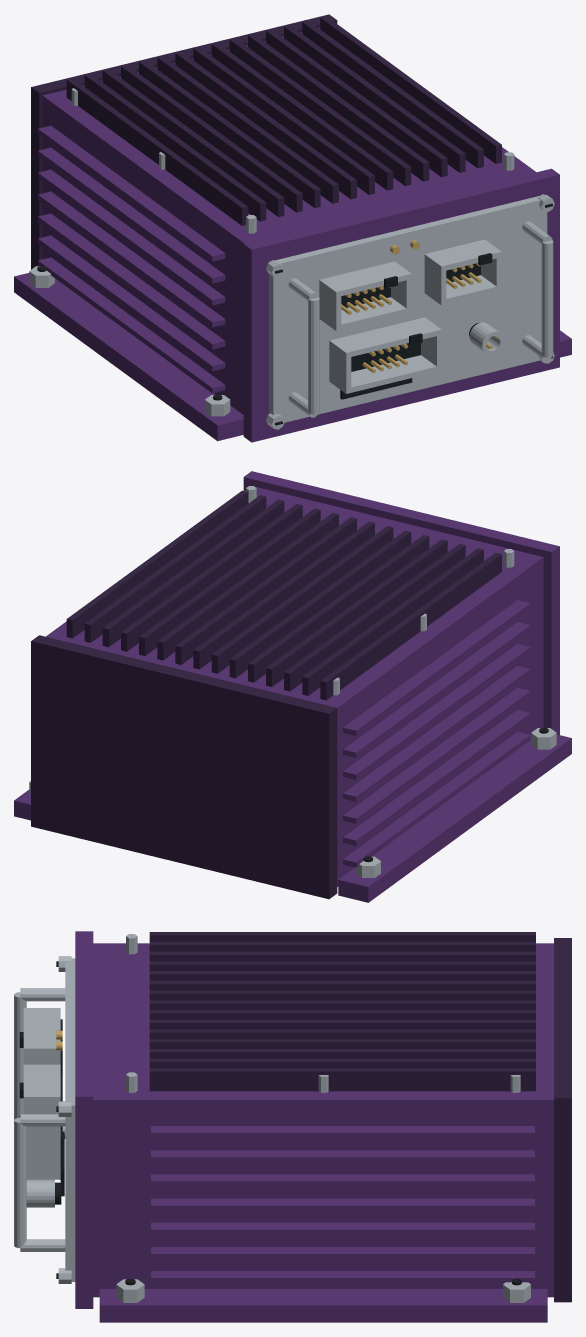
Rendered from LogicProcessor.obj.
The picture shows the model from 3 angles, top to bottom: view 1: azimuth 30°, elevation 25°; view 2: azimuth 150°, elevation 25°; view 3: azimuth 270°, elevation 25°; orthographic projection. The views are drawn at different scales.
Visible parts, largest first — view 1: FSLogicCase, FSLogicHardware, FSLogicConnectors; view 2: FSLogicCase, FSLogicHardware; view 3: FSLogicCase, FSLogicHardware, FSLogicConnectors.
Boxes of the visible parts, box(x1,y1,x2,y2) form: FSLogicCase: box(14, 14, 571, 442); FSLogicHardware: box(29, 88, 554, 429); FSLogicConnectors: box(37, 203, 552, 425); FSLogicCase: box(14, 471, 571, 902); FSLogicHardware: box(29, 486, 556, 877); FSLogicCase: box(75, 931, 571, 1322); FSLogicHardware: box(14, 934, 530, 1302); FSLogicConnectors: box(19, 961, 521, 1285).
Bounding box in the file's own units: 0.352 × 0.1945 × 0.436.
